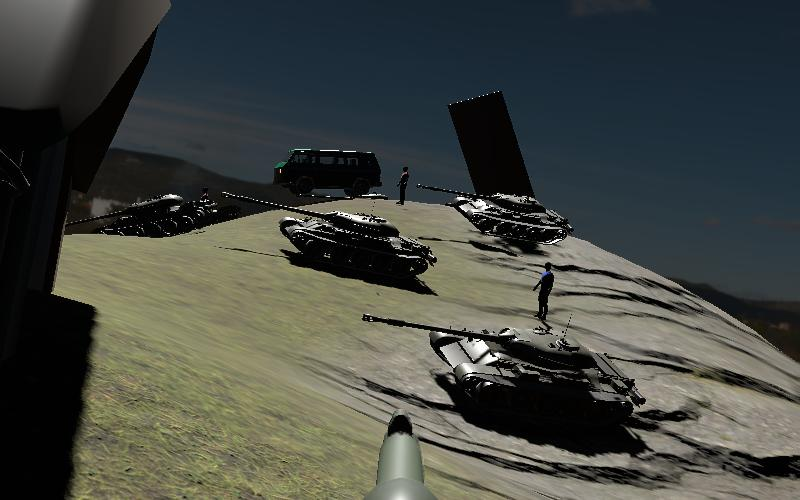Human: (530, 261, 556, 323)
Tank: (358, 311, 646, 435), (221, 195, 438, 285), (416, 181, 574, 246), (64, 187, 221, 243)
car: (272, 146, 383, 202)
